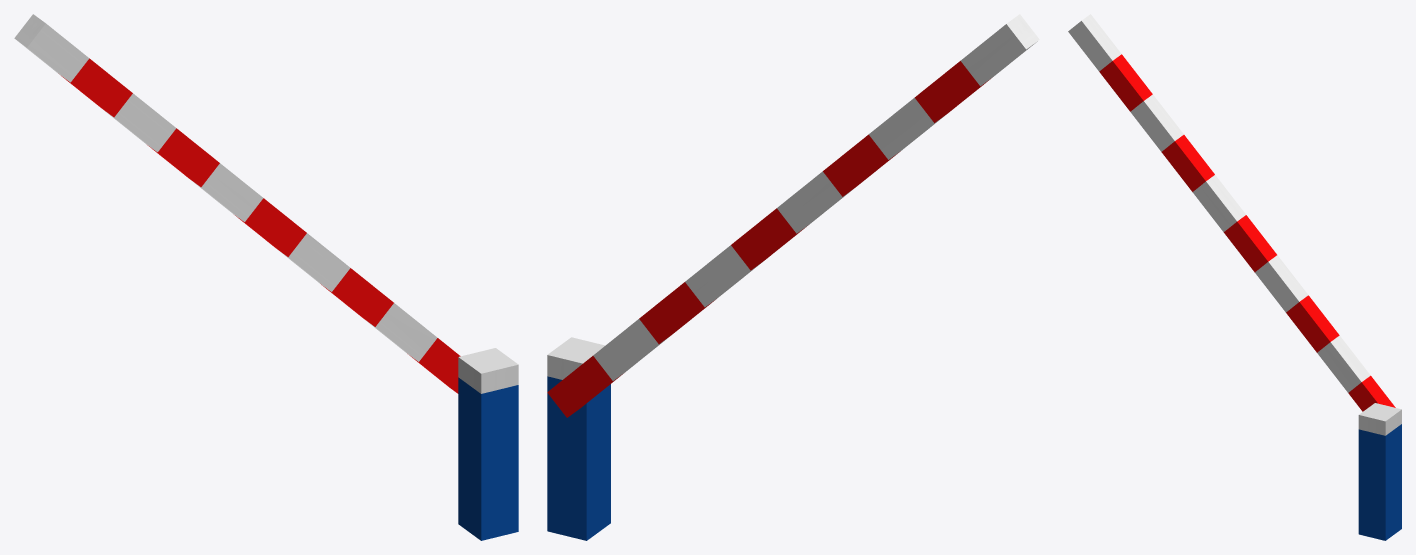
The model's file is Gate.FBX.
3 renders of one model, left to right at view 1: azimuth 30°, elevation 25°; view 2: azimuth 150°, elevation 25°; view 3: azimuth 330°, elevation 25°, orthographic. The views are drawn at different scales.
Visible parts, largest first — view 1: Gate; view 2: Gate; view 3: Gate.
Boxes of the visible parts, x1,y1,x2,y2 form: Gate: [14, 14, 518, 540]; Gate: [547, 14, 1039, 540]; Gate: [1068, 14, 1401, 540].
Bounding box in the file's own units: 640 × 785 × 86.8.
